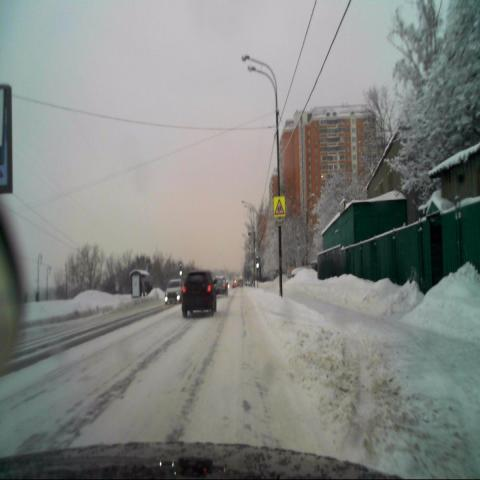1_23: (274, 195, 285, 216)
